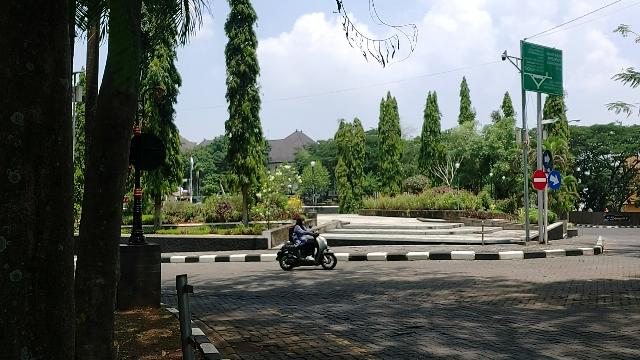motor: (277, 233, 338, 271)
non-helm: (298, 220, 306, 227)
